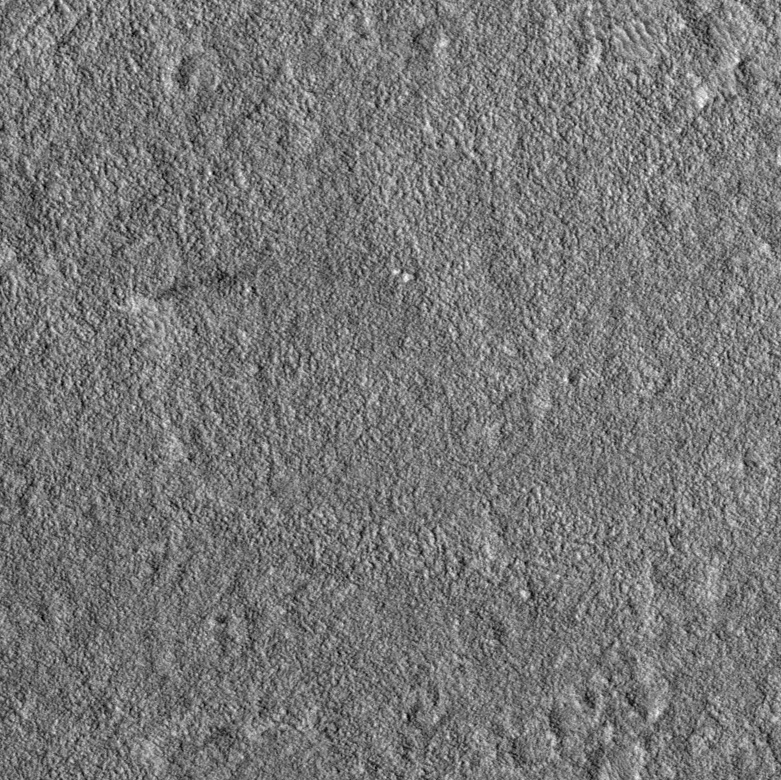dust_devil: (124, 267, 232, 315)
